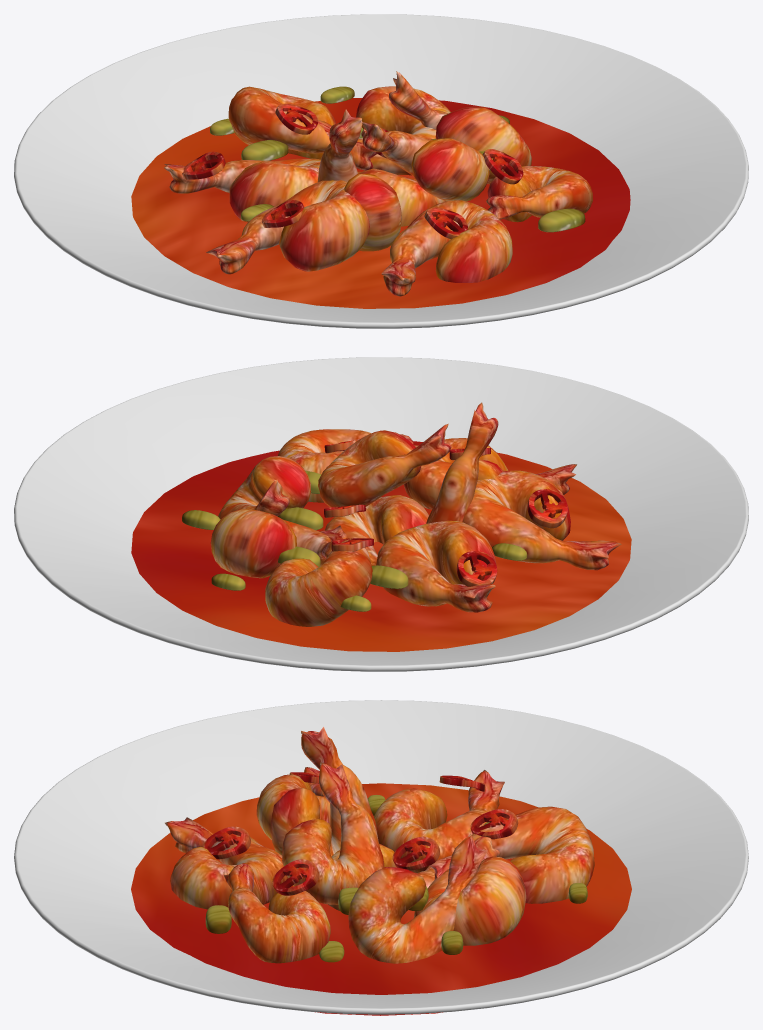
Rendered from Shrimp Soup.glb.
3 views of the same model, one above another, from view 1: azimuth 30°, elevation 25°; view 2: azimuth 150°, elevation 25°; view 3: azimuth 270°, elevation 25° (orthographic).
Parts seen in each view (by area): view 1: Shrimp Soup; view 2: Shrimp Soup; view 3: Shrimp Soup.
Part boxes in pixels (x1,y1,x2,y2): Shrimp Soup: [14, 14, 748, 328]; Shrimp Soup: [14, 357, 748, 671]; Shrimp Soup: [14, 700, 748, 1015].
Size of the model in its own units: 0.2412 by 0.0596 by 0.2412.
Materials: 3 (2 with a texture image).
